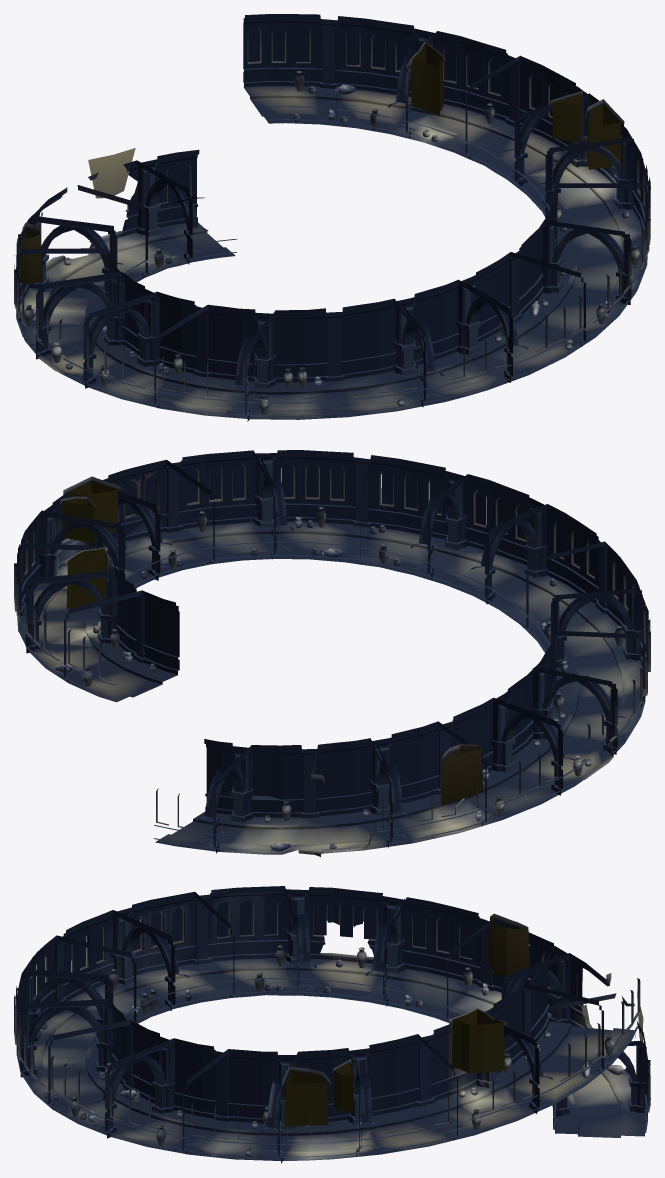
Rendered from 02Descent.gltf.
The picture shows the model from 3 angles, top to bottom: view 1: azimuth 30°, elevation 25°; view 2: azimuth 150°, elevation 25°; view 3: azimuth 270°, elevation 25°; orthographic projection.
Parts seen in each view (by area): view 1: stg011_o07_Mesh_0002, stg011_o07_Mesh_0046, stg011_o07_Mesh_0007, stg011_o07_Mesh_0011, stg011_o07_Mesh_0003, stg011_k_Mesh_0001, stg011_o07_Mesh_0008, stg011_p07_Mesh_0000, stg011_o07_Mesh_0004, stg011_o07_Mesh_0041, stg011_p07_Mesh_0001, stg011_o07_Mesh_0013 (+1 smaller); view 2: stg011_o07_Mesh_0002, stg011_o07_Mesh_0046, stg011_o07_Mesh_0007, stg011_o07_Mesh_0011, stg011_o07_Mesh_0003, stg011_o07_Mesh_0008, stg011_k_Mesh_0001, stg011_p07_Mesh_0000, stg011_o07_Mesh_0004, stg011_o07_Mesh_0041, stg011_o07_Mesh_0013, stg011_o07_Mesh_0012; view 3: stg011_o07_Mesh_0002, stg011_o07_Mesh_0046, stg011_o07_Mesh_0007, stg011_o07_Mesh_0011, stg011_o07_Mesh_0003, stg011_k_Mesh_0001, stg011_p07_Mesh_0000, stg011_o07_Mesh_0008, stg011_o07_Mesh_0004, stg011_o07_Mesh_0041, stg011_o07_Mesh_0013, stg011_o07_Mesh_0012.
Part boxes in pixels (left/top/right/bottom): stg011_o07_Mesh_0002: left=14, top=14, right=650, bottom=421; stg011_o07_Mesh_0046: left=48, top=98, right=622, bottom=409; stg011_o07_Mesh_0007: left=16, top=22, right=648, bottom=364; stg011_o07_Mesh_0011: left=19, top=86, right=645, bottom=419; stg011_o07_Mesh_0003: left=35, top=55, right=625, bottom=412; stg011_k_Mesh_0001: left=20, top=43, right=621, bottom=284; stg011_o07_Mesh_0008: left=16, top=71, right=645, bottom=377; stg011_p07_Mesh_0000: left=14, top=27, right=650, bottom=268; stg011_o07_Mesh_0004: left=19, top=24, right=624, bottom=376; stg011_o07_Mesh_0041: left=24, top=71, right=639, bottom=414; stg011_p07_Mesh_0001: left=88, top=148, right=135, bottom=198; stg011_o07_Mesh_0013: left=14, top=28, right=650, bottom=255; stg011_o07_Mesh_0002: left=14, top=450, right=650, bottom=853; stg011_o07_Mesh_0046: left=42, top=533, right=622, bottom=845; stg011_o07_Mesh_0007: left=17, top=458, right=647, bottom=799; stg011_o07_Mesh_0011: left=19, top=521, right=645, bottom=854; stg011_o07_Mesh_0003: left=35, top=474, right=631, bottom=847; stg011_o07_Mesh_0008: left=22, top=507, right=647, bottom=812; stg011_k_Mesh_0001: left=62, top=480, right=483, bottom=805; stg011_p07_Mesh_0000: left=18, top=463, right=650, bottom=667; stg011_o07_Mesh_0004: left=20, top=463, right=633, bottom=813; stg011_o07_Mesh_0041: left=34, top=507, right=623, bottom=851; stg011_o07_Mesh_0013: left=19, top=463, right=650, bottom=669; stg011_o07_Mesh_0012: left=60, top=476, right=613, bottom=857; stg011_o07_Mesh_0002: left=14, top=886, right=650, bottom=1163; stg011_o07_Mesh_0046: left=42, top=970, right=621, bottom=1151; stg011_o07_Mesh_0007: left=16, top=894, right=647, bottom=1114; stg011_o07_Mesh_0011: left=19, top=958, right=645, bottom=1161; stg011_o07_Mesh_0003: left=30, top=911, right=635, bottom=1153; stg011_k_Mesh_0001: left=284, top=914, right=529, bottom=1126; stg011_p07_Mesh_0000: left=14, top=899, right=650, bottom=1072; stg011_o07_Mesh_0008: left=16, top=943, right=647, bottom=1127; stg011_o07_Mesh_0004: left=31, top=899, right=637, bottom=1116; stg011_o07_Mesh_0041: left=41, top=945, right=626, bottom=1155; stg011_o07_Mesh_0013: left=14, top=902, right=650, bottom=1097; stg011_o07_Mesh_0012: left=282, top=913, right=636, bottom=1086.
Bounding box in the file's own units: 119 × 41.4 × 119.
